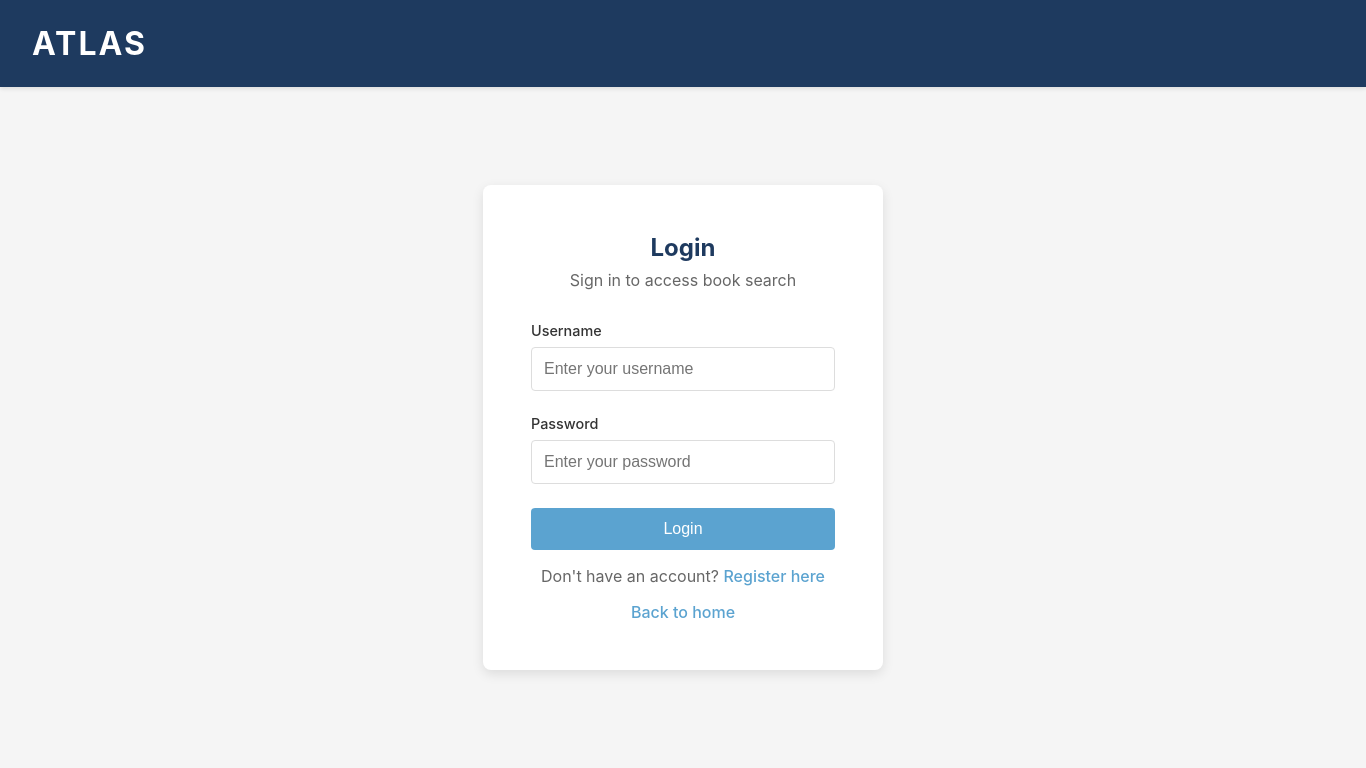
Test: LoginPage › Form Validation › should show error for short username
Step 1. Type "ab" into the field labelled "Username" → (683,369), box x1=531 y1=347 x2=835 y2=391
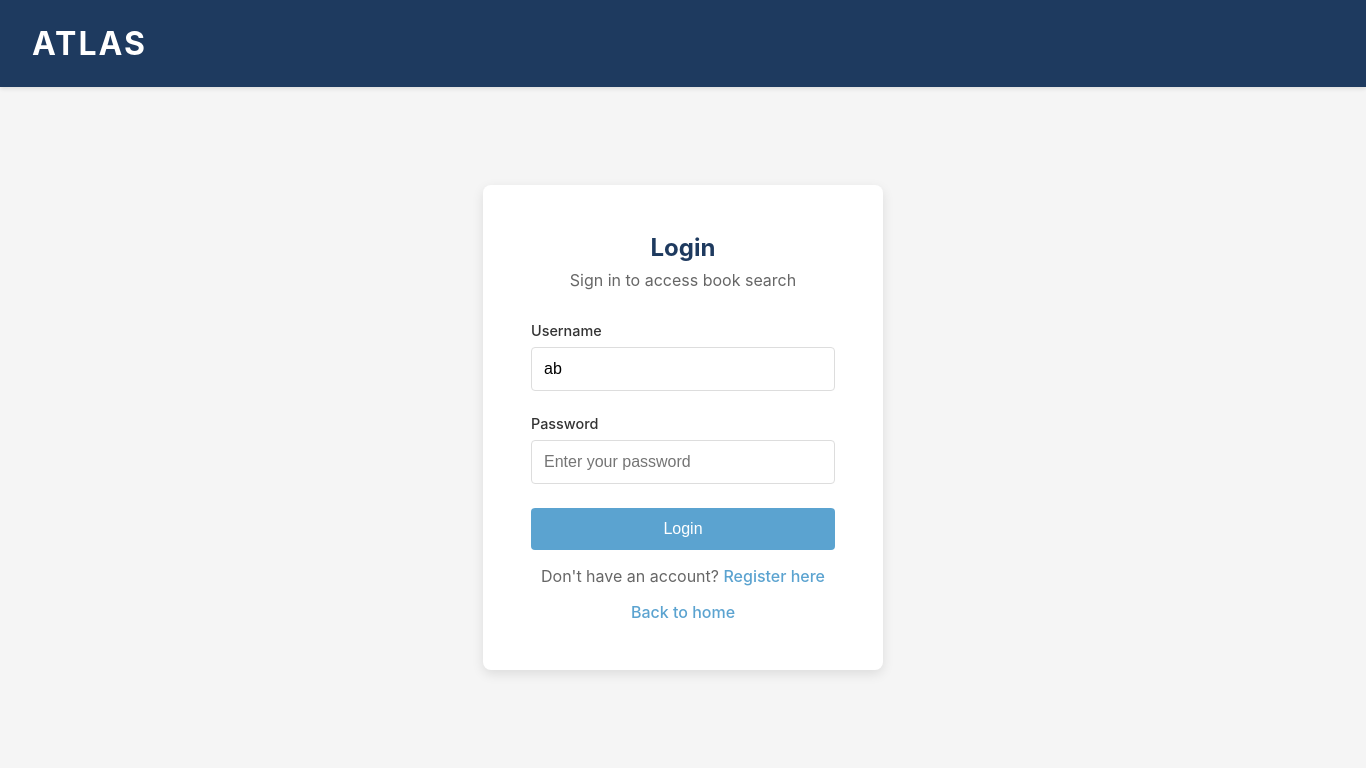
Step 2. Type "password123" into the password field labelled "Password" → (683,462), box x1=531 y1=440 x2=835 y2=484
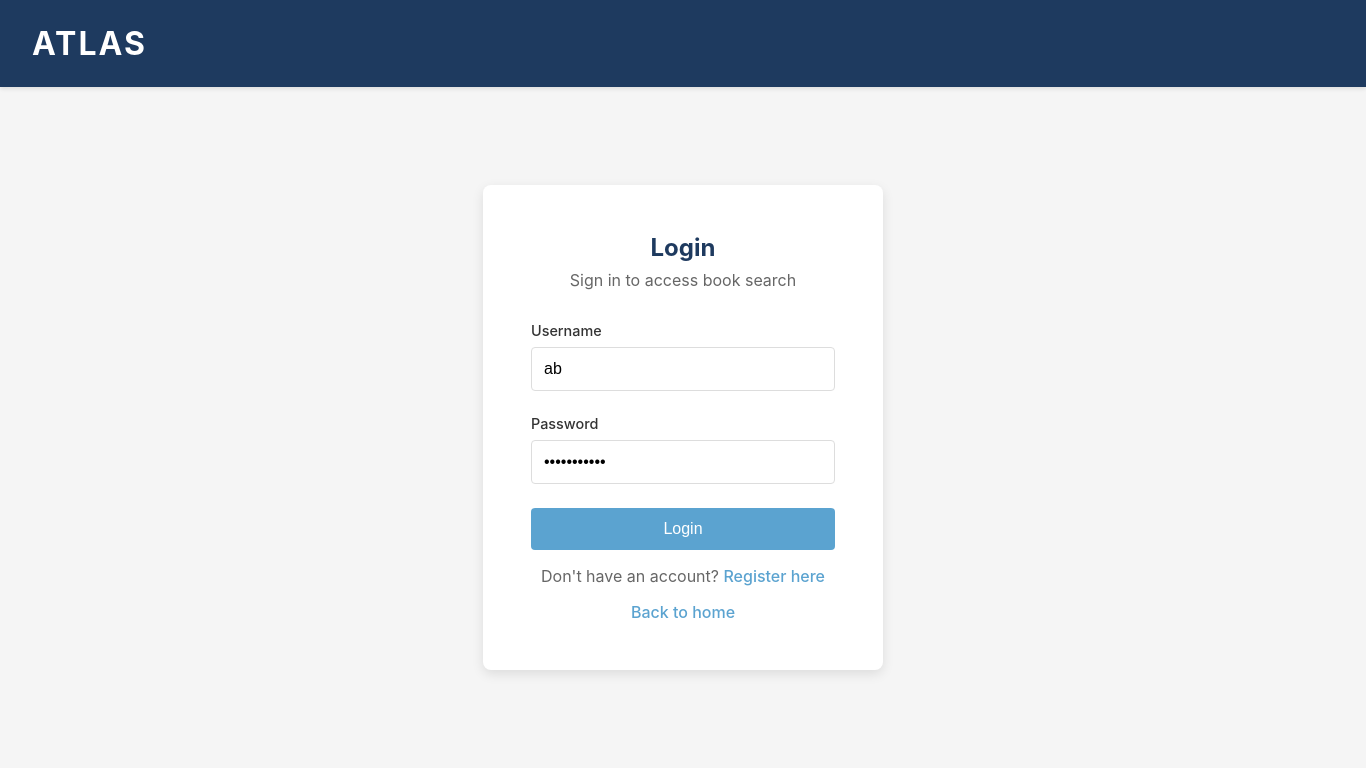
Step 3. Click the button "Login" → (683,529), box x1=531 y1=508 x2=835 y2=550
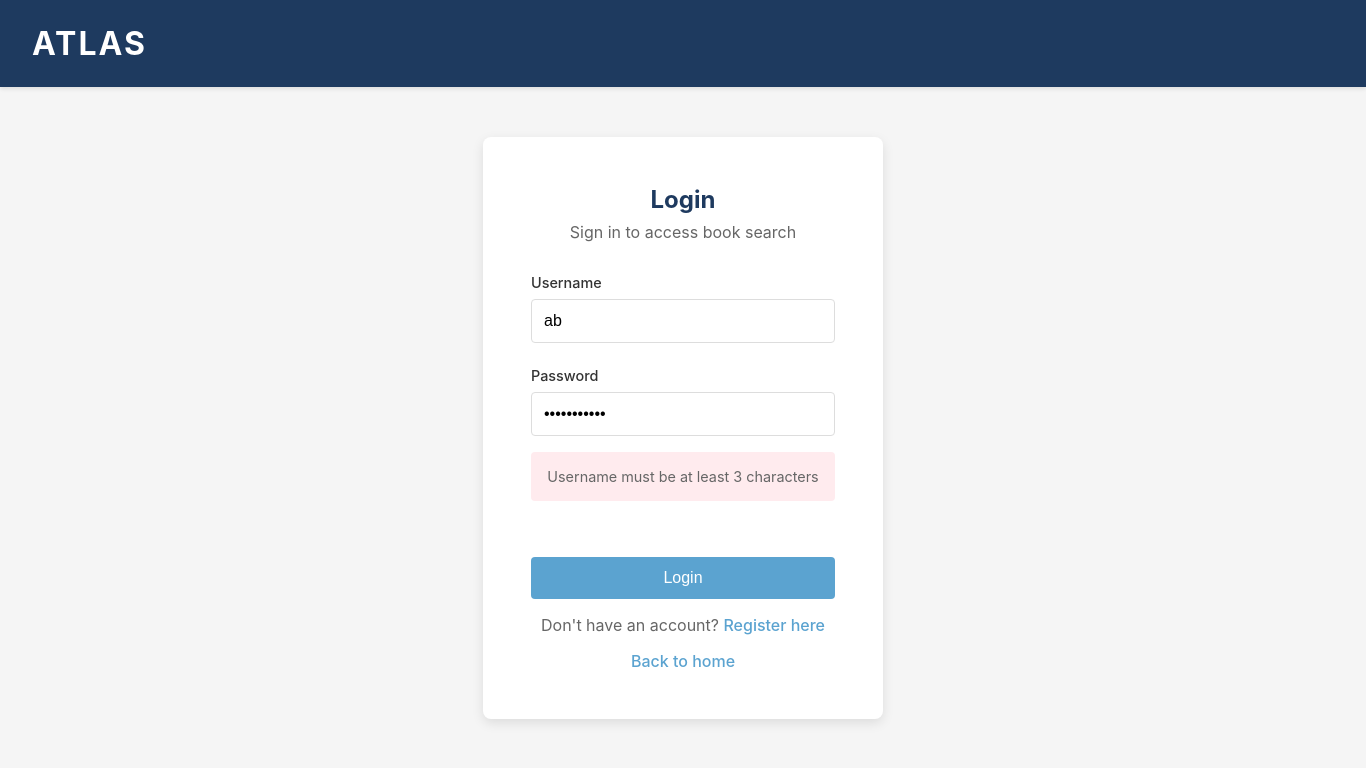
Expected: the text "Username must be at least 3 characters" is shown, x1=531 y1=452 x2=835 y2=500
